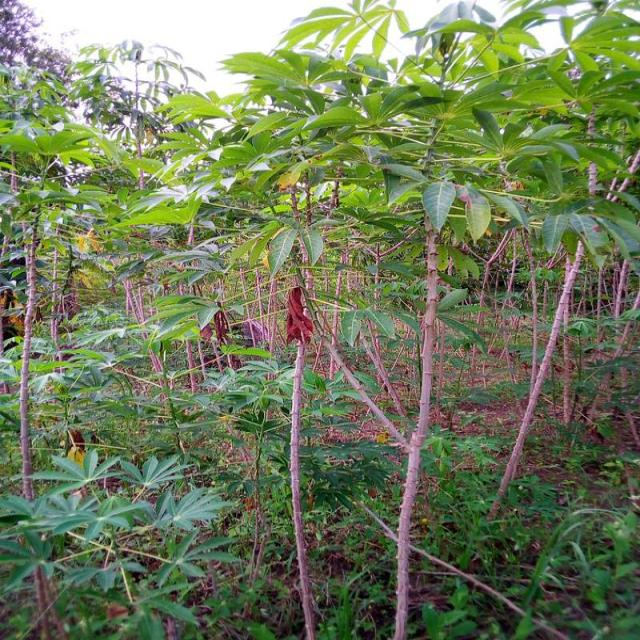cassava leaf: (421, 179, 455, 232)
